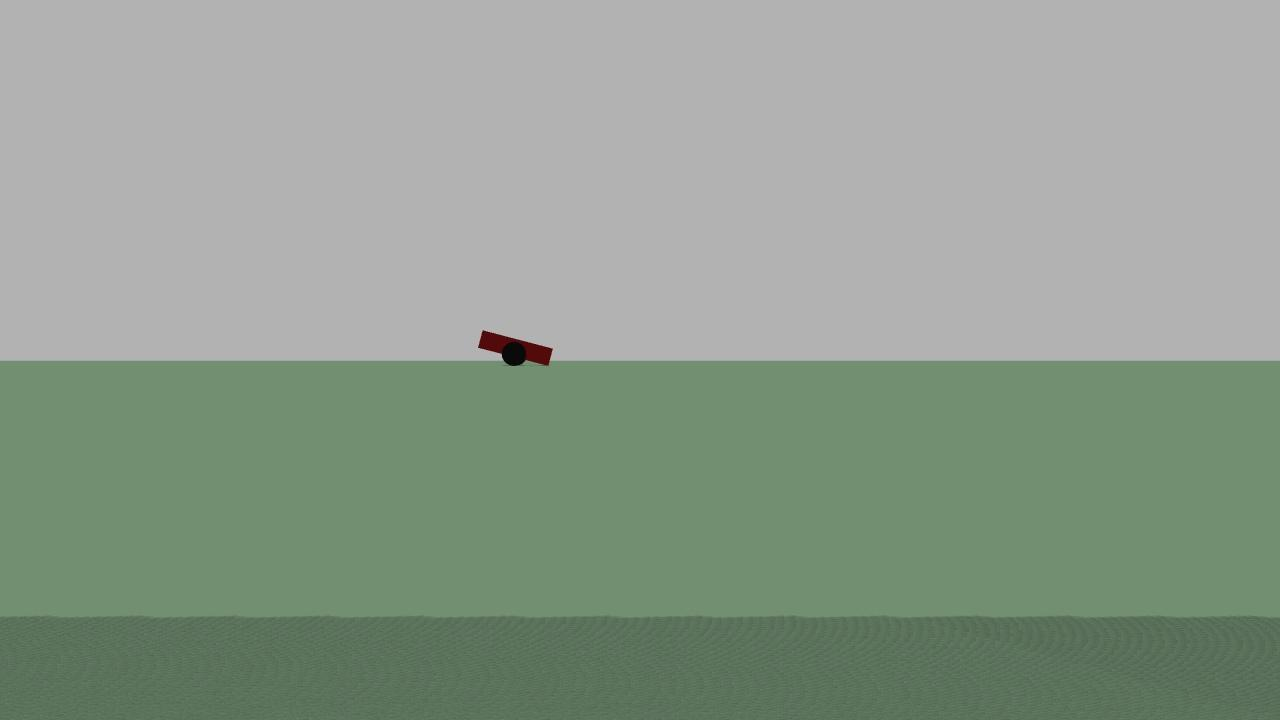ground_vehicle: (475, 321, 557, 373)
